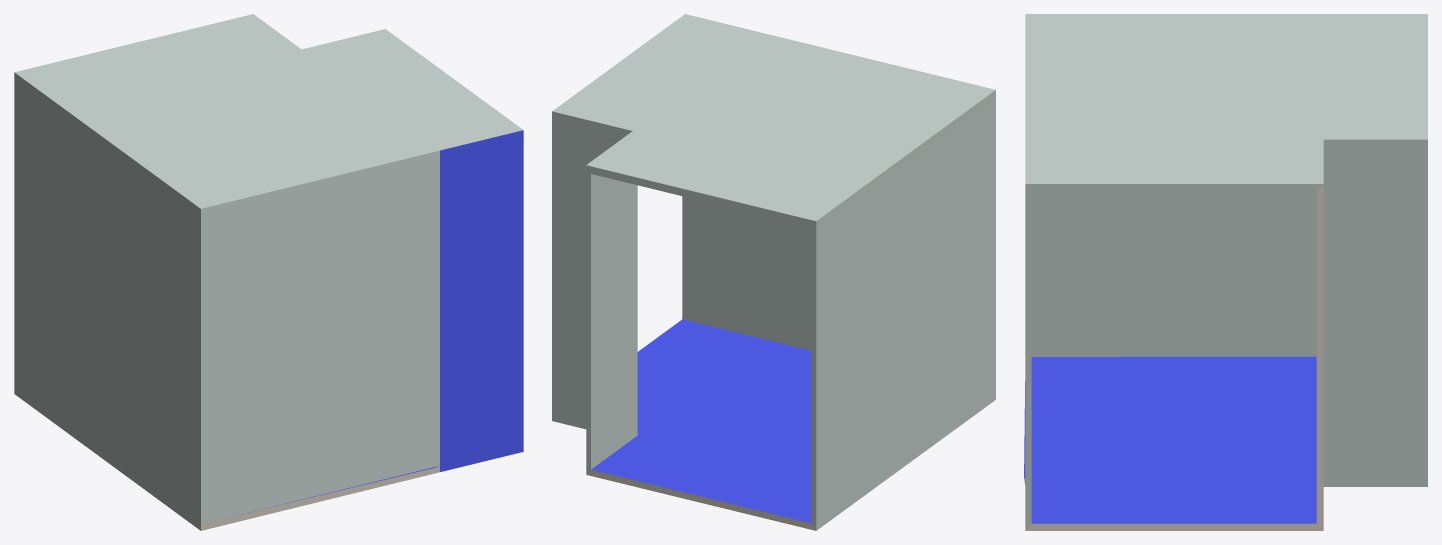
Rendered from Corner.fbx.
3 views of the same model, side by side, from view 1: azimuth 30°, elevation 25°; view 2: azimuth 150°, elevation 25°; view 3: azimuth 270°, elevation 25° (orthographic). The views are drawn at different scales.
Parts seen in each view (by area): view 1: Corner; view 2: Corner; view 3: Corner.
Boxes of the visible parts, x1,y1,x2,y2 form: Corner: (14, 14, 523, 530); Corner: (552, 14, 995, 530); Corner: (1024, 14, 1427, 530).
Bounding box in the file's own units: 1155 × 1101 × 1160.
